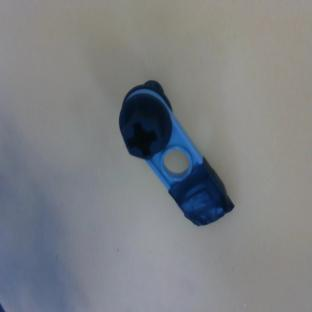part_1_bad: (101, 75, 238, 240)
